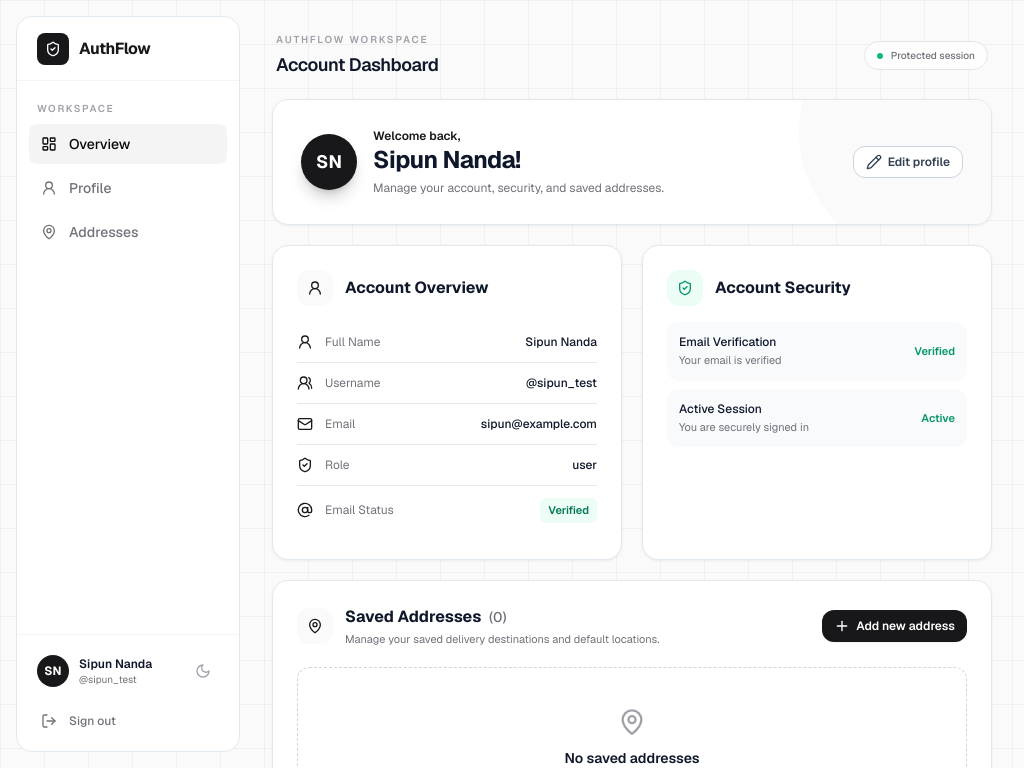
it: Address Management Form Validation › restricts pincode input to numeric digits and blocks letters
Note: Open Add Address Modal
Click the button "Add new address" at (895, 626), box left=822, top=610, right=967, bottom=642
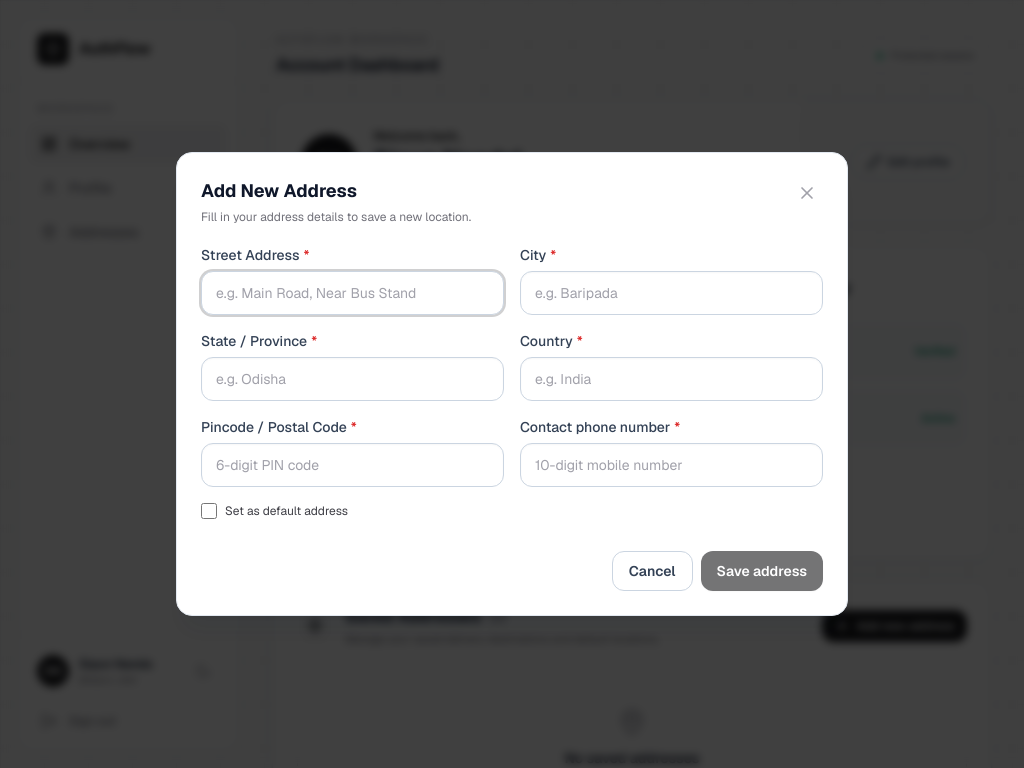
Note: Attempt typing letters 'dsdssds' as seen in the screenshot
Type "dsdssds" into the field labelled "Pincode / Postal Code*" at (352, 465), box left=201, top=443, right=504, bottom=487
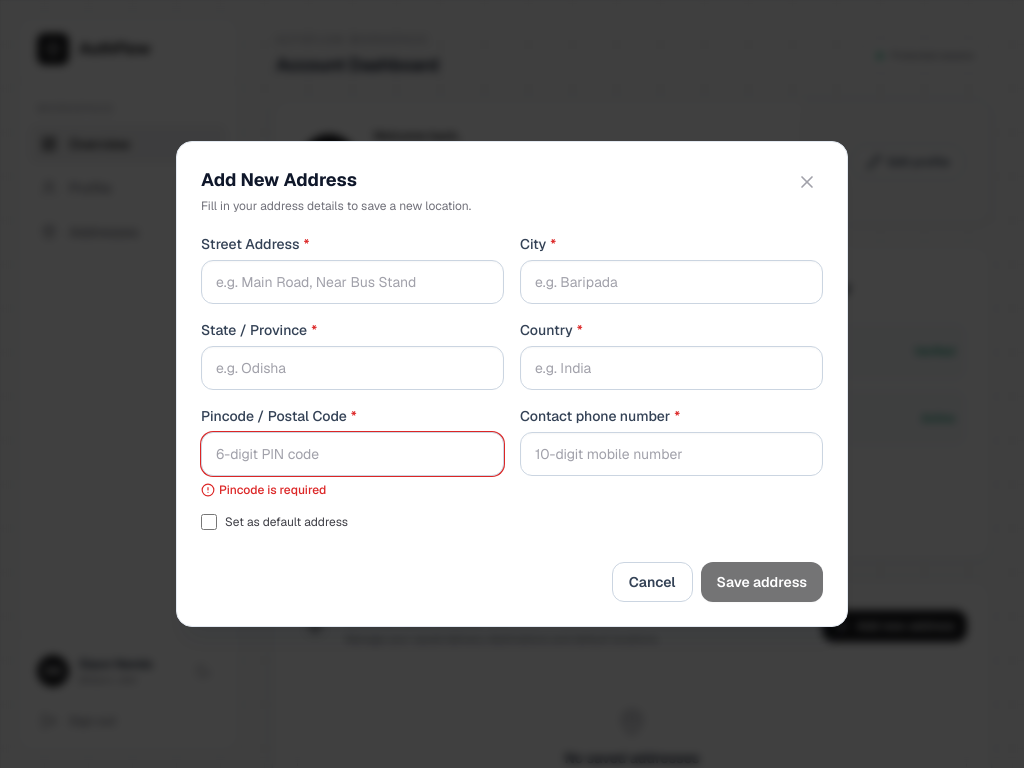
Now the field labelled "Pincode / Postal Code*" is empty
Note: Typing digits works up to max 6 digits
Type "75700188" into the field labelled "Pincode / Postal Code*" at (352, 454), box left=201, top=432, right=504, bottom=476
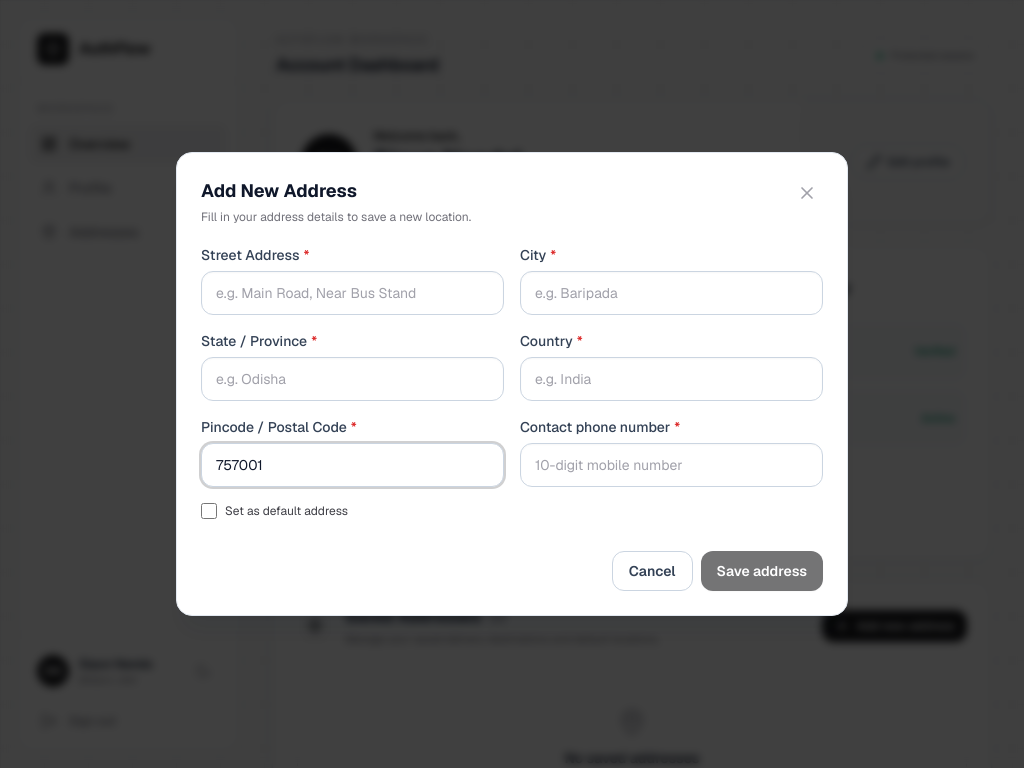
Now the field labelled "Pincode / Postal Code*" holds "757001", box left=201, top=443, right=504, bottom=487
